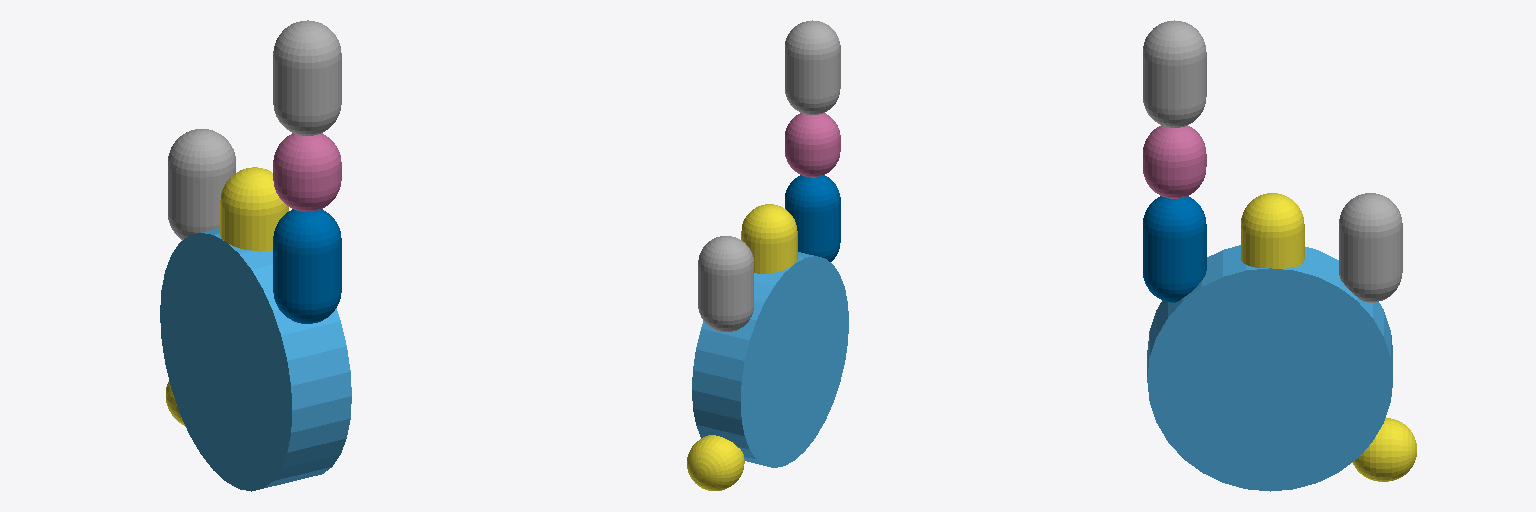
URDF robot description (DexterousHand):
<?xml version="1.0"?>
<robot name="DexterousHand">


    <link name="world"/>
    <joint name="world_to_palm" type="fixed">
        <parent link="world"/>
        <child link="palm"/>
        <origin xyz="0 0 0" rpy="0 0 0"/>
    </joint>
    <link name="palm">
        <inertial>
            <origin xyz="0 0 0.057" rpy="0 0 0"/>
            <mass value="0.30212892864"/>
            <inertia ixx="0.00049080844457568" ixy="0.0" ixz="0.0" iyy="0.00026746366246427523" iyz="0.0" izz="0.00026746366246427523"/>
        </inertial>
        <visual>
            <origin xyz="0 0 0.057" rpy="1.5708 0 1.5708"/>
            <geometry>
                <cylinder radius="0.057" length="0.0296"/>
            </geometry>
            <material name="default"/>
        </visual>
        <collision>
            <origin xyz="0 0 0.057" rpy="1.5708 0 1.5708"/>
            <geometry>
                <cylinder radius="0.057" length="0.0296"/>
            </geometry>
        </collision>
    </link>

    
    <joint name="thumb_joint1" type="revolute">
        <parent link="palm"/>
        <child link="thumb_base"/>
        <origin xyz="0.0029 0.0368 0.0157" rpy="-1.5708 -1.5708 0.0"/>
        <axis xyz="-1 0 0"/>
        <limit lower="-0.349" upper="2.094" effort="1.0" velocity="1.0"/>
    </joint>

    <link name="thumb_base"></link>

    <joint name="thumb_joint2" type="revolute">
        <parent link="thumb_base"/>
        <child link="thumb_proximal"/>
        <origin xyz="0.0 0.0 0.0" rpy="0.0 0.0 0.0"/>
        <axis xyz="0 0 1"/>
        <limit lower="-0.47" upper="2.443" effort="1.0" velocity="1.0"/>
    </joint>

    <link name="thumb_proximal">
        <inertial>
            <origin xyz="0 0 0.01565" rpy="0 0 0"/>
            <mass value="0.021538658803200002"/>
            <inertia ixx="2.9378910096388167e-06" ixy="0.0" ixz="0.0" 
            iyy="2.9378910096388167e-06" iyz="0.0" izz="2.358913912126464e-06"/>
        </inertial>
        <visual>
            <origin xyz="0 0 0.01565" rpy="0 0 0"/>
            <geometry>
                <cylinder radius="0.0148" length="0.0017000000000000001"/>
            </geometry>
            <material name="default"/>
        </visual>
        <visual>
            <origin xyz="0 0 0.0148" rpy="0 0 0"/>
            <geometry>
                <sphere radius="0.0148"/>
            </geometry>
            <material name="default"/>
        </visual>
        <visual>
            <origin xyz="0 0 0.0165" rpy="0 0 0"/>
            <geometry>
                <sphere radius="0.0148"/>
            </geometry>
            <material name="default"/>
        </visual>
        <collision>
            <origin xyz="0 0 0.01565" rpy="0 0 0"/>
            <geometry>
                <cylinder radius="0.0148" length="0.0017000000000000001"/>
            </geometry>
        </collision>
        <collision>
            <origin xyz="0 0 0.0148" rpy="0 0 0"/>
            <geometry>
                <sphere radius="0.0148"/>
            </geometry>
        </collision>
        <collision>
            <origin xyz="0 0 0.0165" rpy="0 0 0"/>
            <geometry>
                <sphere radius="0.0148"/>
            </geometry>
        </collision>
    </link>

    <joint name="thumb_joint3" type="revolute">
        <parent link="thumb_proximal"/>
        <child link="thumb_knuckle"/>
        <origin xyz="0.0 0.0 0.0" rpy="0.0 0.0 0.0"/>
        <axis xyz="1 0 0"/>
        <limit lower="0.0" upper="0.0" effort="1.0" velocity="1.0"/>
    </joint>

    <link name="thumb_knuckle"></link>

    <joint name="thumb_joint4" type="revolute">
        <parent link="thumb_knuckle"/>
        <child link="thumb_middle"/>
        <origin xyz="0 0 0" rpy="0 0 0"/> 
        <axis xyz="0 1 0"/>
        <limit lower="0.0" upper="0.0" effort="1.0" velocity="1.0"/>
    </joint>

    <link name="thumb_middle">
    </link>

    <joint name="thumb_joint5" type="revolute">
        <parent link="thumb_middle"/>
        <child link="thumb_distal"/>
        <origin xyz="0 0 0" rpy="0 0 0"/> 
        <axis xyz="0 1 0"/>
        <limit lower="0.0" upper="0.0" effort="1.0" velocity="1.0"/>
    </joint>

    <link name="thumb_distal">
    </link>

    
    <joint name="index_joint1" type="revolute">
        <parent link="palm"/>
        <child link="index_proximal"/>
        <origin xyz="0.0 0.0465 0.091" rpy="0.0 0.0 0.0"/>
        <axis xyz="0 1 0"/>
        <limit lower="-0.314" upper="2.23" effort="1.0" velocity="1.0"/>
    </joint>

    <link name="index_proximal">
        <inertial>
            <origin xyz="0 0 0.02655" rpy="0 0 0"/>
            <mass value="0.036540024998400006"/>
            <inertia ixx="1.058665009272394e-05" ixy="0.0" ixz="0.0" 
            iyy="1.058665009272394e-05" iyz="0.0" izz="4.001863537824769e-06"/>
        </inertial>
        <visual>
            <origin xyz="0 0 0.02655" rpy="0 0 0"/>
            <geometry>
                <cylinder radius="0.0148" length="0.0235"/>
            </geometry>
            <material name="default"/>
        </visual>
        <visual>
            <origin xyz="0 0 0.0148" rpy="0 0 0"/>
            <geometry>
                <sphere radius="0.0148"/>
            </geometry>
            <material name="default"/>
        </visual>
        <visual>
            <origin xyz="0 0 0.0383" rpy="0 0 0"/>
            <geometry>
                <sphere radius="0.0148"/>
            </geometry>
            <material name="default"/>
        </visual>
        <collision>
            <origin xyz="0 0 0.02655" rpy="0 0 0"/>
            <geometry>
                <cylinder radius="0.0148" length="0.0235"/>
            </geometry>
        </collision>
        <collision>
            <origin xyz="0 0 0.0148" rpy="0 0 0"/>
            <geometry>
                <sphere radius="0.0148"/>
            </geometry>
        </collision>
        <collision>
            <origin xyz="0 0 0.0383" rpy="0 0 0"/>
            <geometry>
                <sphere radius="0.0148"/>
            </geometry>
        </collision>
    </link>

    <joint name="index_joint2" type="revolute">
        <parent link="index_proximal"/>
        <child link="index_dummy"/>
        <origin xyz="0.0 0.0 0.038" rpy="0.0 0.0 0.0"/>
        <axis xyz="0 1 0"/>
        <limit lower="0.0" upper="0.0" effort="1.0" velocity="1.0"/>
    </joint>

    <link name="index_dummy"></link>

    <joint name="index_joint3" type="revolute">
        <parent link="index_dummy"/>
        <child link="index_middle"/>
        <origin xyz="0 0 0.015100000000000002" rpy="0 0 0"/>
        <axis xyz="0 1 0"/>
        <limit lower="0.0" upper="0.0" effort="1.0" velocity="1.0"/>
    </joint>

    <link name="index_middle">
    </link>

    <joint name="index_joint4" type="revolute">
        <parent link="index_middle"/>
        <child link="index_distal"/>
        <origin xyz="0 0 0" rpy="0 0 0"/> 
        <axis xyz="0 1 0"/>
        <limit lower="0.0" upper="0.0" effort="1.0" velocity="1.0"/>
    </joint>

    <link name="index_distal">
    </link>

    
    <joint name="middle_joint1" type="revolute">
        <parent link="palm"/>
        <child link="middle_proximal"/>
        <origin xyz="0.0 0.0011 0.091" rpy="0.0 0.0 0.0"/>
        <axis xyz="0 1 0"/>
        <limit lower="-0.314" upper="2.23" effort="1.0" velocity="1.0"/>
    </joint>

    <link name="middle_proximal">
        <inertial>
            <origin xyz="0 0 0.02655" rpy="0 0 0"/>
            <mass value="0.036540024998400006"/>
            <inertia ixx="1.058665009272394e-05" ixy="0.0" ixz="0.0" 
            iyy="1.058665009272394e-05" iyz="0.0" izz="4.001863537824769e-06"/>
        </inertial>
        <visual>
            <origin xyz="0 0 0.02655" rpy="0 0 0"/>
            <geometry>
                <cylinder radius="0.0148" length="0.0235"/>
            </geometry>
            <material name="default"/>
        </visual>
        <visual>
            <origin xyz="0 0 0.0148" rpy="0 0 0"/>
            <geometry>
                <sphere radius="0.0148"/>
            </geometry>
            <material name="default"/>
        </visual>
        <visual>
            <origin xyz="0 0 0.0383" rpy="0 0 0"/>
            <geometry>
                <sphere radius="0.0148"/>
            </geometry>
            <material name="default"/>
        </visual>
        <collision>
            <origin xyz="0 0 0.02655" rpy="0 0 0"/>
            <geometry>
                <cylinder radius="0.0148" length="0.0235"/>
            </geometry>
        </collision>
        <collision>
            <origin xyz="0 0 0.0148" rpy="0 0 0"/>
            <geometry>
                <sphere radius="0.0148"/>
            </geometry>
        </collision>
        <collision>
            <origin xyz="0 0 0.0383" rpy="0 0 0"/>
            <geometry>
                <sphere radius="0.0148"/>
            </geometry>
        </collision>
    </link>

    <joint name="middle_joint2" type="revolute">
        <parent link="middle_proximal"/>
        <child link="middle_dummy"/>
        <origin xyz="0.0 0.0 0.038" rpy="0.0 0.0 0.0"/>
        <axis xyz="0 1 0"/>
        <limit lower="0.0" upper="0.0" effort="1.0" velocity="1.0"/>
    </joint>

    <link name="middle_dummy"></link>

    <joint name="middle_joint3" type="revolute">
        <parent link="middle_dummy"/>
        <child link="middle_middle"/>
        <origin xyz="0 0 0.015100000000000002" rpy="0 0 0"/>
        <axis xyz="0 1 0"/>
        <limit lower="0.0" upper="0.0" effort="1.0" velocity="1.0"/>
    </joint>

    <link name="middle_middle">
    </link>

    <joint name="middle_joint4" type="revolute">
        <parent link="middle_middle"/>
        <child link="middle_distal"/>
        <origin xyz="0 0 0" rpy="0 0 0"/> 
        <axis xyz="0 1 0"/>
        <limit lower="0.0" upper="0.0" effort="1.0" velocity="1.0"/>
    </joint>

    <link name="middle_distal">
    </link>

    
    <joint name="ring_joint1" type="revolute">
        <parent link="palm"/>
        <child link="ring_proximal"/>
        <origin xyz="0.0 0.0 0.0" rpy="0.0 0.0 0.0"/>
        <axis xyz="1 0 0"/>
        <limit lower="0.0" upper="0.0" effort="1.0" velocity="1.0"/>
    </joint>

    <link name="ring_proximal">
    </link>

    <joint name="ring_joint2" type="revolute">
        <parent link="ring_proximal"/>
        <child link="ring_dummy"/>
        <origin xyz="0.0 0.0 0.0" rpy="0.0 0.0 0.0"/>
        <axis xyz="0 1 0"/>
        <limit lower="0.0" upper="0.0" effort="1.0" velocity="1.0"/>
    </joint>

    <link name="ring_dummy"></link>

    <joint name="ring_joint3" type="revolute">
        <parent link="ring_dummy"/>
        <child link="ring_middle"/>
        <origin xyz="0 0 0" rpy="0 0 0"/>
        <axis xyz="0 1 0"/>
        <limit lower="0.0" upper="0.0" effort="1.0" velocity="1.0"/>
    </joint>

    <link name="ring_middle">
    </link>

    <joint name="ring_joint4" type="revolute">
        <parent link="ring_middle"/>
        <child link="ring_distal"/>
        <origin xyz="0 0 0" rpy="0 0 0"/> 
        <axis xyz="0 1 0"/>
        <limit lower="0.0" upper="0.0" effort="1.0" velocity="1.0"/>
    </joint>

    <link name="ring_distal">
    </link>

    
    <joint name="little_joint0" type="revolute">
        <parent link="palm"/>
        <child link="little_base"/>
        <origin xyz="0.0 0.0 0.0" rpy="0.0 0.0 0.0"/>
        <axis xyz="0 1 0"/>
        <limit lower="0.0" upper="0.0" effort="1.0" velocity="1.0"/>
    </joint>

    <link name="little_base"></link>

    <joint name="little_joint1" type="revolute">
        <parent link="little_base"/>
        <child link="little_proximal"/>
        <origin xyz="0.0 -0.0443 0.091" rpy="-0.0 -0.0 -0.0"/>
        <axis xyz="0 1 0"/>
        <limit lower="-0.314" upper="2.23" effort="1.0" velocity="1.0"/>
    </joint>

    <link name="little_proximal">
        <inertial>
            <origin xyz="0 0 0.02655" rpy="0 0 0"/>
            <mass value="0.036540024998400006"/>
            <inertia ixx="1.058665009272394e-05" ixy="0.0" ixz="0.0" 
            iyy="1.058665009272394e-05" iyz="0.0" izz="4.001863537824769e-06"/>
        </inertial>
        <visual>
            <origin xyz="0 0 0.02655" rpy="0 0 0"/>
            <geometry>
                <cylinder radius="0.0148" length="0.0235"/>
            </geometry>
            <material name="default"/>
        </visual>
        <visual>
            <origin xyz="0 0 0.0148" rpy="0 0 0"/>
            <geometry>
                <sphere radius="0.0148"/>
            </geometry>
            <material name="default"/>
        </visual>
        <visual>
            <origin xyz="0 0 0.0383" rpy="0 0 0"/>
            <geometry>
                <sphere radius="0.0148"/>
            </geometry>
            <material name="default"/>
        </visual>
        <collision>
            <origin xyz="0 0 0.02655" rpy="0 0 0"/>
            <geometry>
                <cylinder radius="0.0148" length="0.0235"/>
            </geometry>
        </collision>
        <collision>
            <origin xyz="0 0 0.0148" rpy="0 0 0"/>
            <geometry>
                <sphere radius="0.0148"/>
            </geometry>
        </collision>
        <collision>
            <origin xyz="0 0 0.0383" rpy="0 0 0"/>
            <geometry>
                <sphere radius="0.0148"/>
            </geometry>
        </collision>
    </link>

    <joint name="little_joint2" type="revolute">
        <parent link="little_proximal"/>
        <child link="little_dummy"/>
        <origin xyz="0.0 0.0 0.038" rpy="0.0 0.0 0.0"/>
        <axis xyz="1 0 0"/>
        <limit lower="-1.047" upper="1.047" effort="1.0" velocity="1.0"/>
    </joint>

    <link name="little_dummy"></link>

    <joint name="little_joint3" type="revolute">
        <parent link="little_dummy"/>
        <child link="little_middle"/>
        <origin xyz="0 0 0.015100000000000002" rpy="0 0 0"/>
        <axis xyz="0 1 0"/>
        <limit lower="-0.506" upper="1.885" effort="1.0" velocity="1.0"/>
    </joint>

    <link name="little_middle">
        <inertial>
            <origin xyz="0 0 0.01805" rpy="0 0 0"/>
            <mass value="0.0248417119104"/>
            <inertia ixx="4.058162759109537e-06" ixy="0.0" ixz="0.0" 
            iyy="4.058162759109537e-06" iyz="0.0" izz="2.7206642884270085e-06"/>
        </inertial>
        <visual>
            <origin xyz="0 0 0.01805" rpy="0 0 0"/>
            <geometry>
                <cylinder radius="0.0148" length="0.006499999999999999"/>
            </geometry>
            <material name="default"/>
        </visual>
        <visual>
            <origin xyz="0 0 0.0148" rpy="0 0 0"/>
            <geometry>
                <sphere radius="0.0148"/>
            </geometry>
            <material name="default"/>
        </visual>
        <visual>
            <origin xyz="0 0 0.0213" rpy="0 0 0"/>
            <geometry>
                <sphere radius="0.0148"/>
            </geometry>
            <material name="default"/>
        </visual>
        <collision>
            <origin xyz="0 0 0.01805" rpy="0 0 0"/>
            <geometry>
                <cylinder radius="0.0148" length="0.006499999999999999"/>
            </geometry>
        </collision>
        <collision>
            <origin xyz="0 0 0.0148" rpy="0 0 0"/>
            <geometry>
                <sphere radius="0.0148"/>
            </geometry>
        </collision>
        <collision>
            <origin xyz="0 0 0.0213" rpy="0 0 0"/>
            <geometry>
                <sphere radius="0.0148"/>
            </geometry>
        </collision>
    </link>

    <joint name="little_joint4" type="revolute">
        <parent link="little_middle"/>
        <child link="little_distal"/>
        <origin xyz="0 0 0.0361" rpy="0 0 0"/>
        <axis xyz="0 1 0"/>
        <limit lower="-0.366" upper="2.042" effort="1.0" velocity="1.0"/>
    </joint>

    <link name="little_distal">
        <inertial>
            <origin xyz="0 0 0.026" rpy="0 0 0"/>
            <mass value="0.035783075328"/>
            <inertia ixx="1.002260084553728e-05" ixy="0.0" ixz="0.0" 
            iyy="1.002260084553728e-05" iyz="0.0" izz="3.91896240992256e-06"/>
        </inertial>
        <visual>
            <origin xyz="0 0 0.026" rpy="0 0 0"/>
            <geometry>
                <cylinder radius="0.0148" length="0.022399999999999996"/>
            </geometry>
            <material name="default"/>
        </visual>
        <visual>
            <origin xyz="0 0 0.0148" rpy="0 0 0"/>
            <geometry>
                <sphere radius="0.0148"/>
            </geometry>
            <material name="default"/>
        </visual>
        <visual>
            <origin xyz="0 0 0.0372" rpy="0 0 0"/>
            <geometry>
                <sphere radius="0.0148"/>
            </geometry>
            <material name="default"/>
        </visual>
        <collision>
            <origin xyz="0 0 0.026" rpy="0 0 0"/>
            <geometry>
                <cylinder radius="0.0148" length="0.022399999999999996"/>
            </geometry>
        </collision>
        <collision>
            <origin xyz="0 0 0.0148" rpy="0 0 0"/>
            <geometry>
                <sphere radius="0.0148"/>
            </geometry>
        </collision>
        <collision>
            <origin xyz="0 0 0.0372" rpy="0 0 0"/>
            <geometry>
                <sphere radius="0.0148"/>
            </geometry>
        </collision>
    </link>

</robot>

--- Render facts (derived) ---
3 views of the same robot in one strip: view 1: azimuth 30°, elevation 25°; view 2: azimuth 150°, elevation 25°; view 3: azimuth 270°, elevation 25° (orthographic).
Model DexterousHand with 24 links and 23 joints (22 revolute, 1 fixed), rooted at world, posed every joint at zero.
Links seen in each view (by area): view 1: palm, little_proximal, little_distal, index_proximal, little_middle, middle_proximal; view 2: palm, index_proximal, little_distal, little_proximal, middle_proximal, little_middle, thumb_proximal; view 3: palm, index_proximal, little_distal, little_proximal, middle_proximal, little_middle, thumb_proximal.
Boxes of the visible links, <box> form: palm: <box>160,228,351,491</box>; little_proximal: <box>273,209,341,323</box>; little_distal: <box>273,20,341,135</box>; index_proximal: <box>168,129,235,240</box>; little_middle: <box>273,133,341,211</box>; middle_proximal: <box>220,167,288,251</box>; palm: <box>692,252,848,467</box>; index_proximal: <box>698,236,753,332</box>; little_distal: <box>785,20,840,114</box>; little_proximal: <box>785,175,840,261</box>; middle_proximal: <box>741,204,797,273</box>; little_middle: <box>785,113,840,177</box>; thumb_proximal: <box>687,435,744,490</box>; palm: <box>1147,245,1392,491</box>; index_proximal: <box>1339,193,1402,302</box>; little_distal: <box>1143,20,1206,127</box>; little_proximal: <box>1143,196,1206,302</box>; middle_proximal: <box>1241,193,1304,268</box>; little_middle: <box>1143,125,1206,198</box>; thumb_proximal: <box>1352,418,1416,481</box>.
Bounding box of the posed robot: 0.0325 × 0.1272 × 0.2322 m (x, y, z).
Geometry: primitives only (box / cylinder / sphere), no mesh files.
